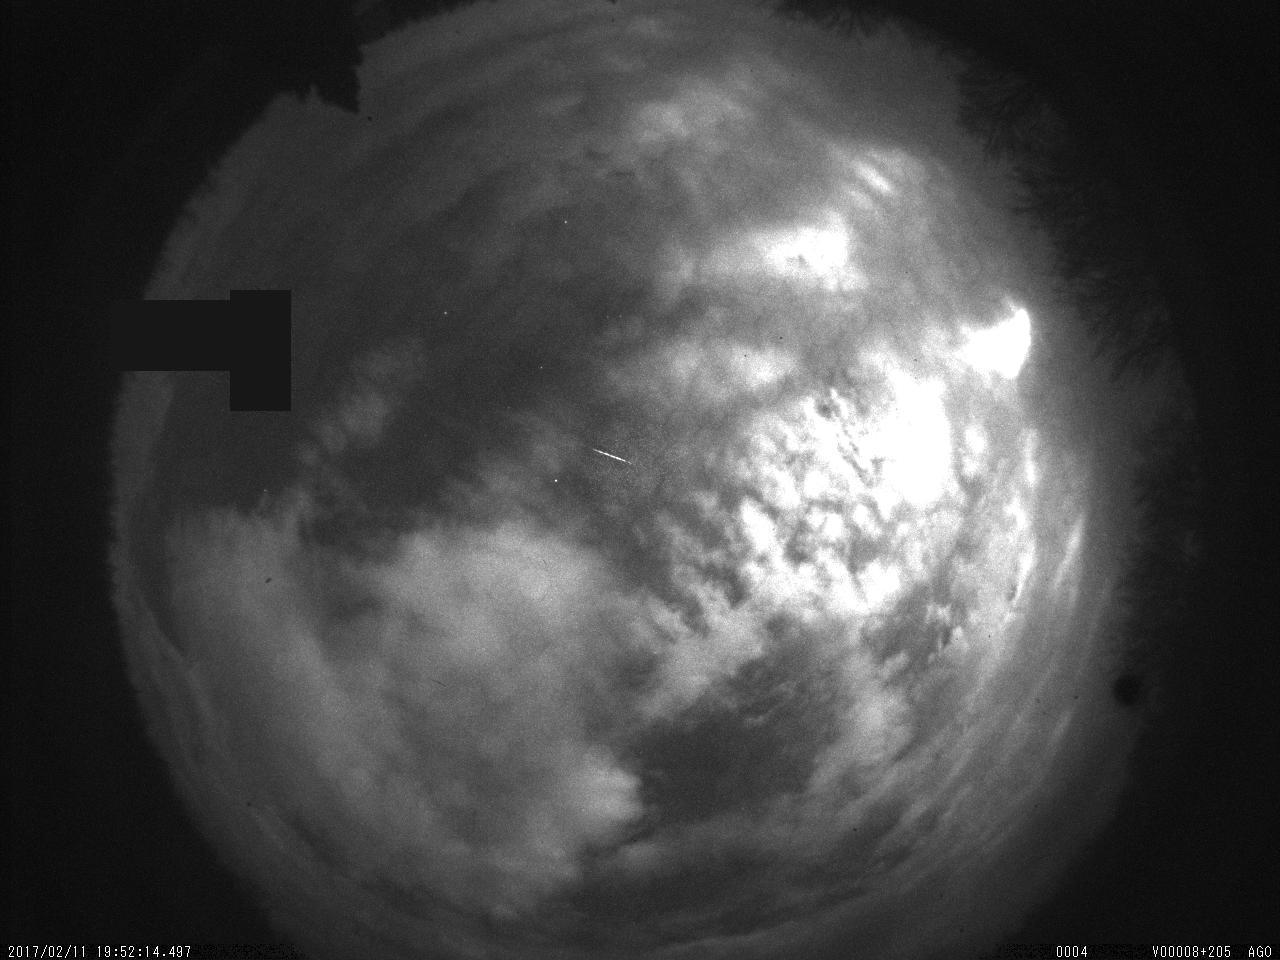meteor: (585, 438, 637, 480)
